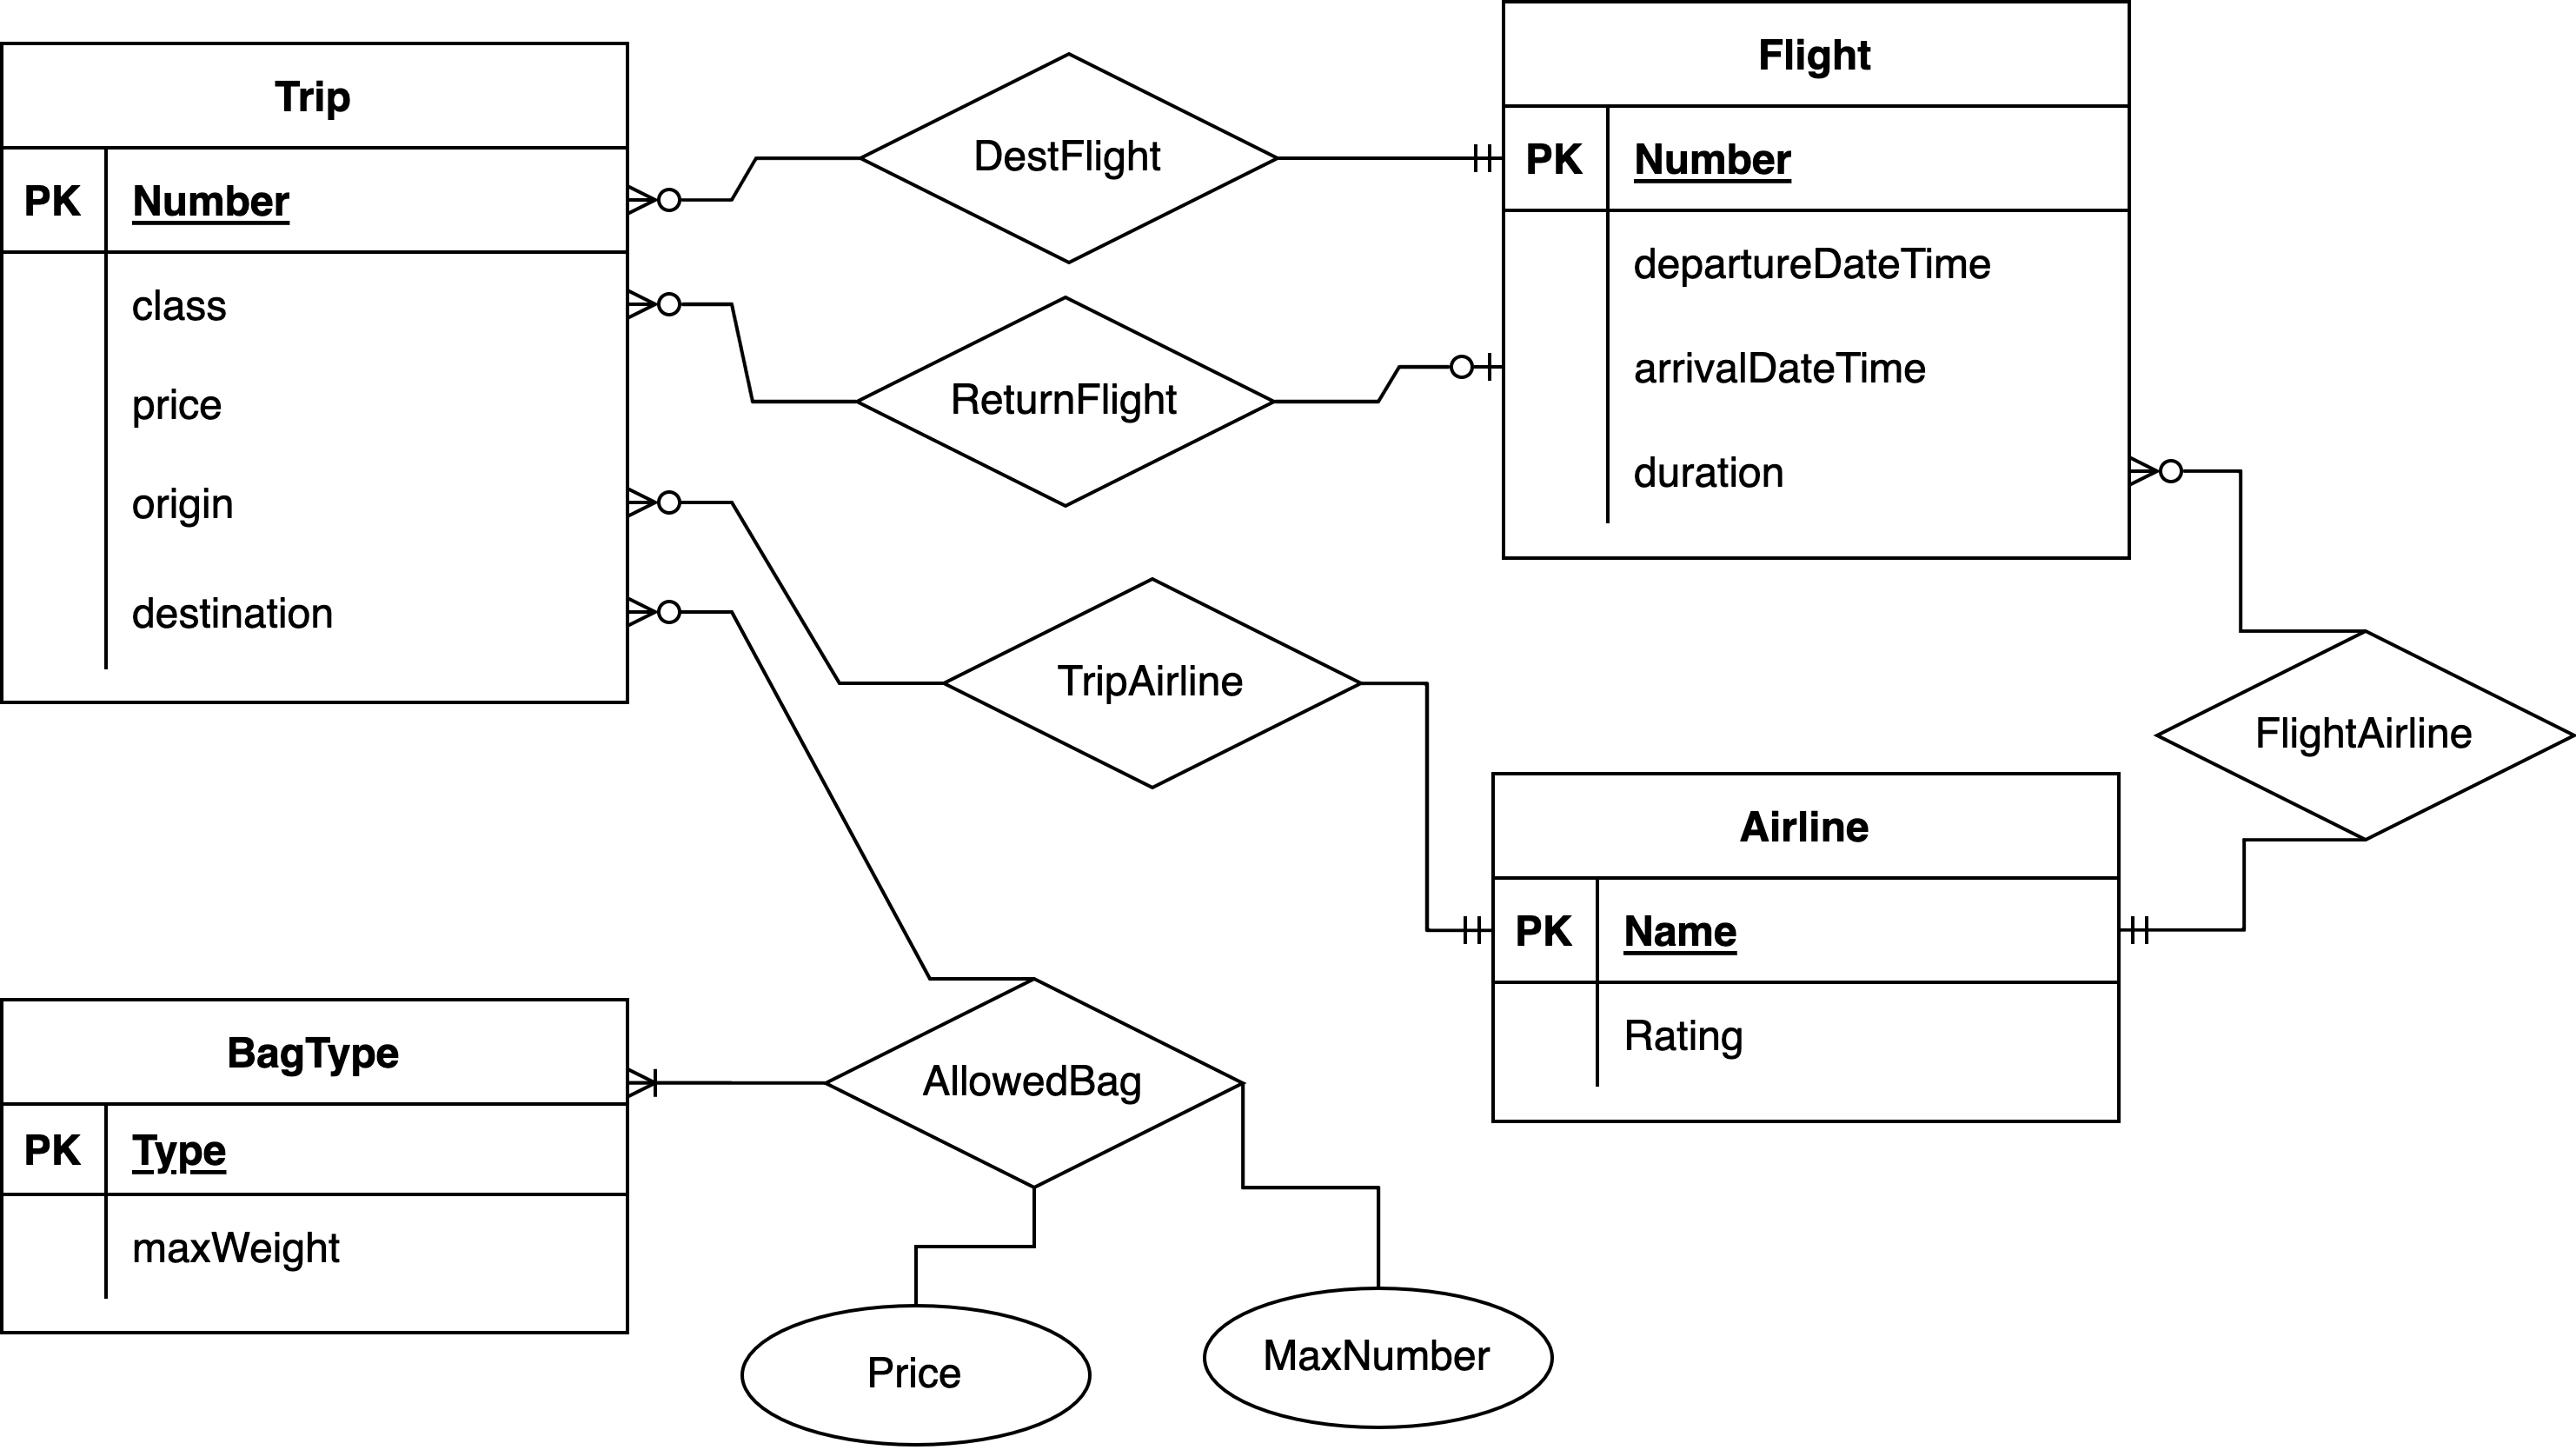entity: (4, 37, 628, 708), (1499, 0, 2134, 567), (1486, 770, 2123, 1126), (0, 993, 632, 1338)
many: (625, 480, 717, 526), (626, 591, 724, 632), (625, 1064, 717, 1107), (2127, 450, 2215, 492), (625, 285, 711, 324), (628, 182, 708, 223)
one: (1426, 351, 1504, 389), (2116, 915, 2187, 949), (1438, 143, 1502, 181), (1428, 912, 1488, 951)
rel: (858, 53, 1279, 266), (830, 981, 1249, 1190), (2153, 632, 2576, 837), (858, 296, 1272, 505), (943, 577, 1357, 786)
rel_attr: (1201, 1285, 1557, 1427), (743, 1305, 1093, 1441)
